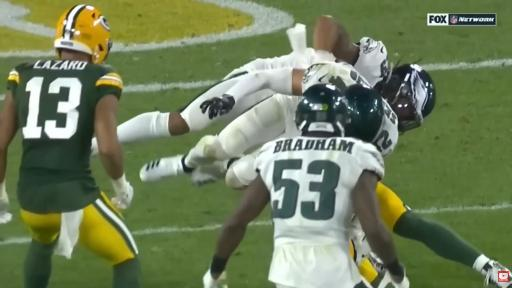Helmet: (380, 64, 435, 133), (54, 5, 111, 63), (295, 83, 353, 134), (344, 83, 382, 141)
Jersey: (8, 60, 122, 213), (255, 136, 384, 254), (227, 48, 335, 77), (303, 62, 371, 91), (354, 37, 389, 86)
Player: (204, 84, 408, 287), (0, 5, 140, 287), (118, 16, 389, 142), (141, 62, 372, 180), (377, 183, 511, 287), (284, 63, 369, 94)
